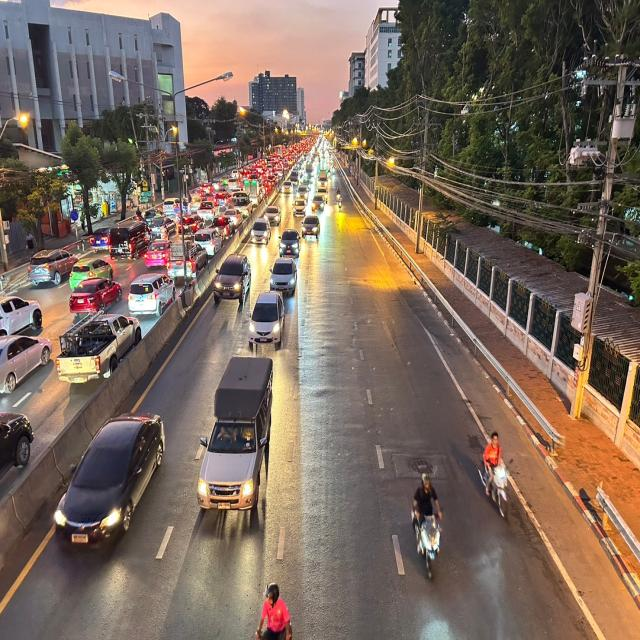bike: (194, 349, 278, 519), (407, 463, 446, 582), (472, 419, 511, 518)
